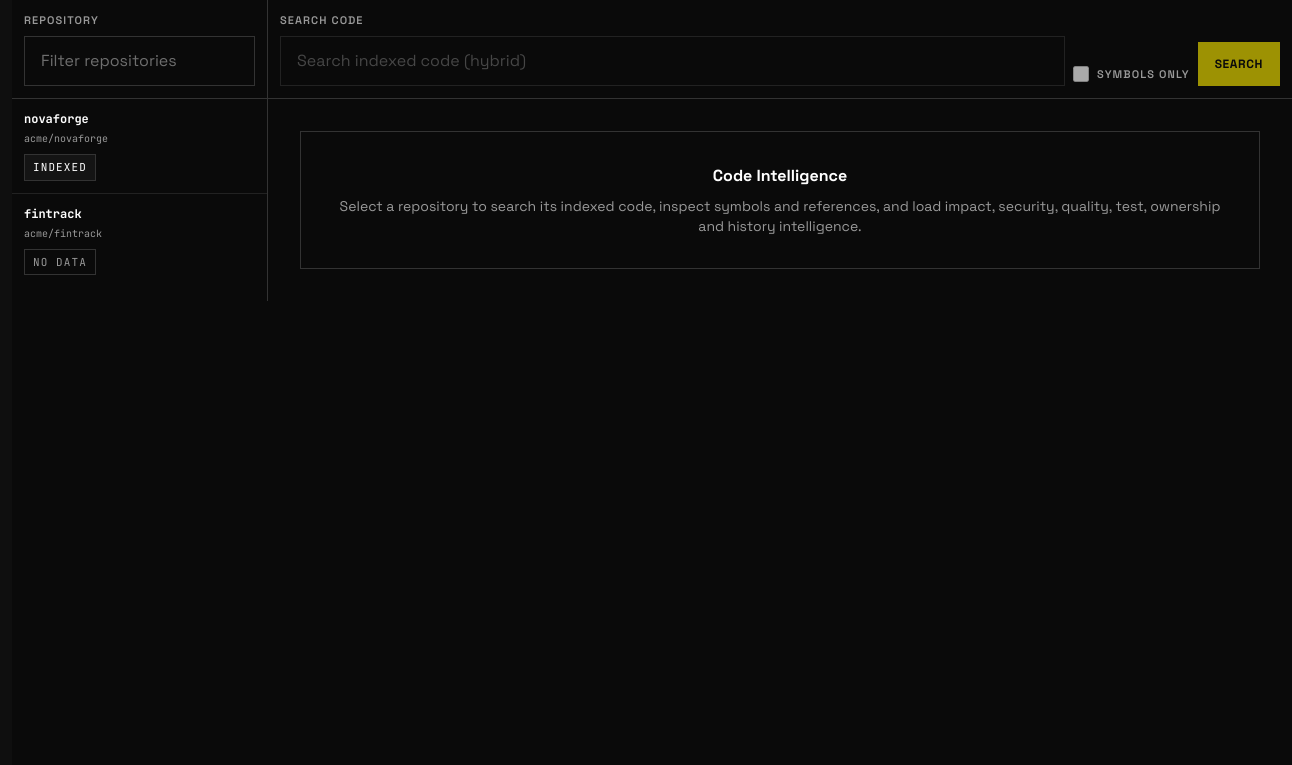
Code Workspace › performs symbol-only search and loads symbol detail on selection
Expected: the text "novaforge" is shown, [24,111,89,127]
Click the button "novaforge acme/novaforge Indexed".
click(140, 146)  # box [12,99,267,192]
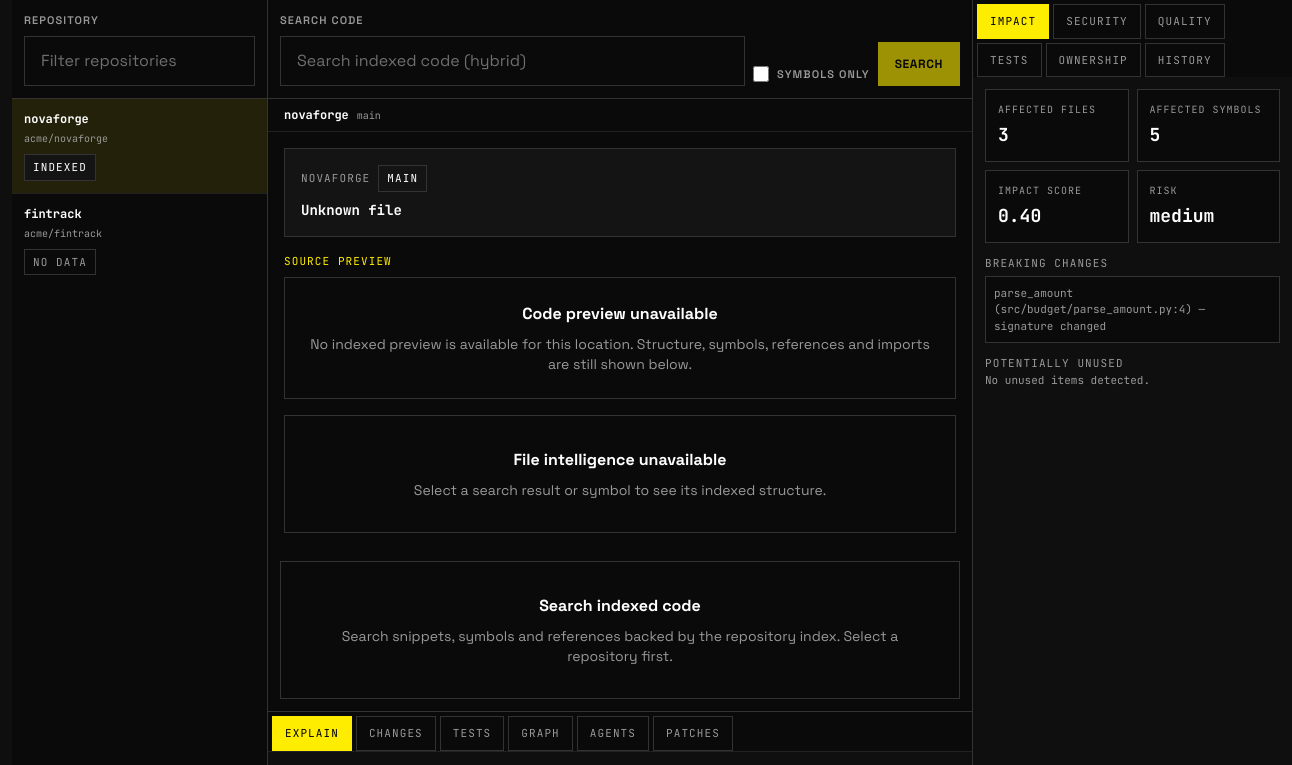
Now the field labelled "Code search" is enabled, box [280,36,745,86]
Click the checkbox labelled "Symbols only".
click(761, 74)  # box [753,66,769,82]
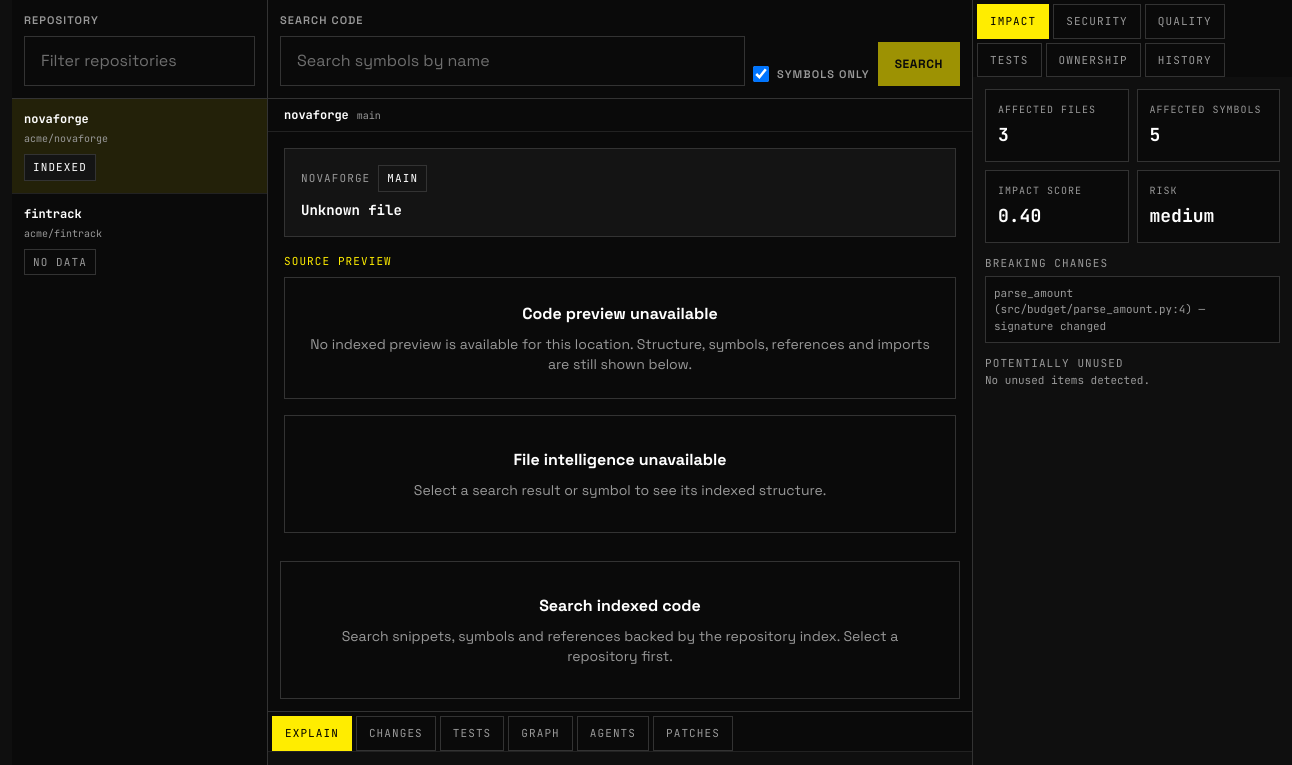
Type "parse" into the field labelled "Code search".
click(513, 61); type("parse")  # box [280,36,745,86]
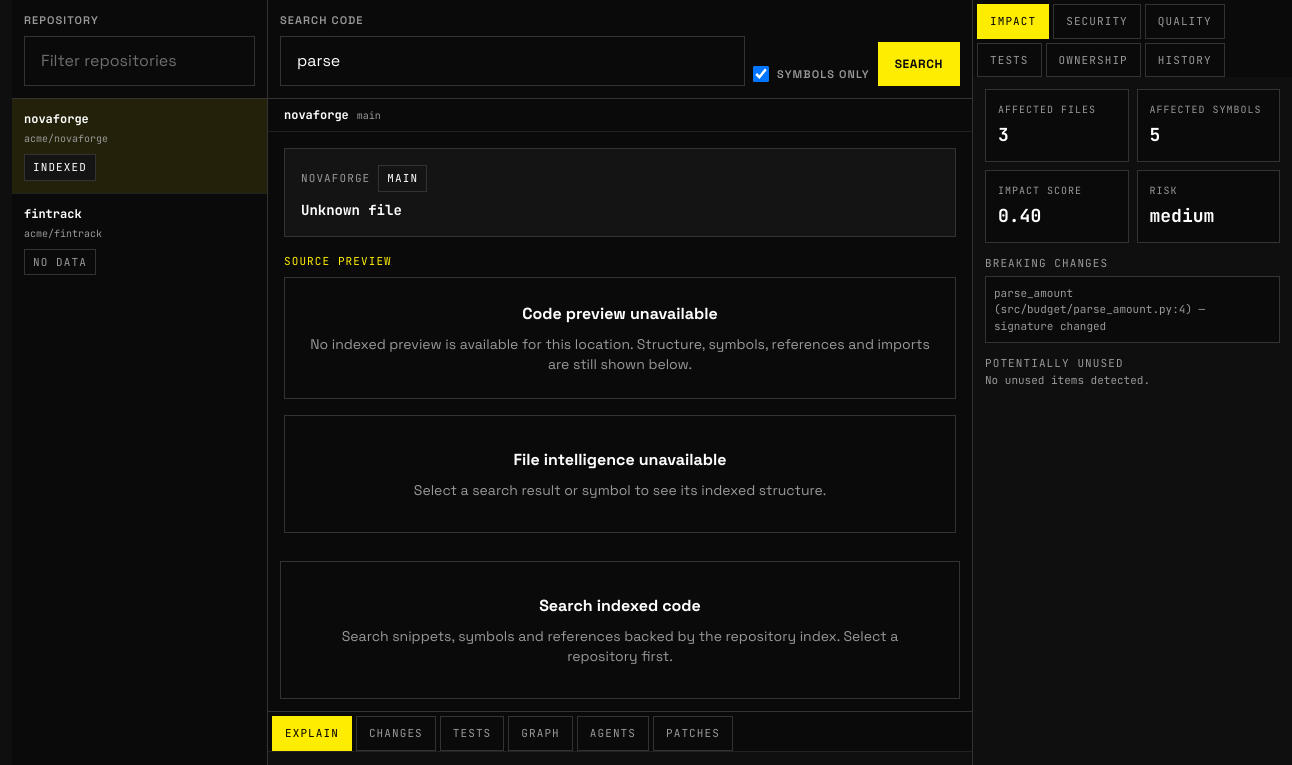
Click the button "Search".
click(919, 64)  # box [878,42,960,86]
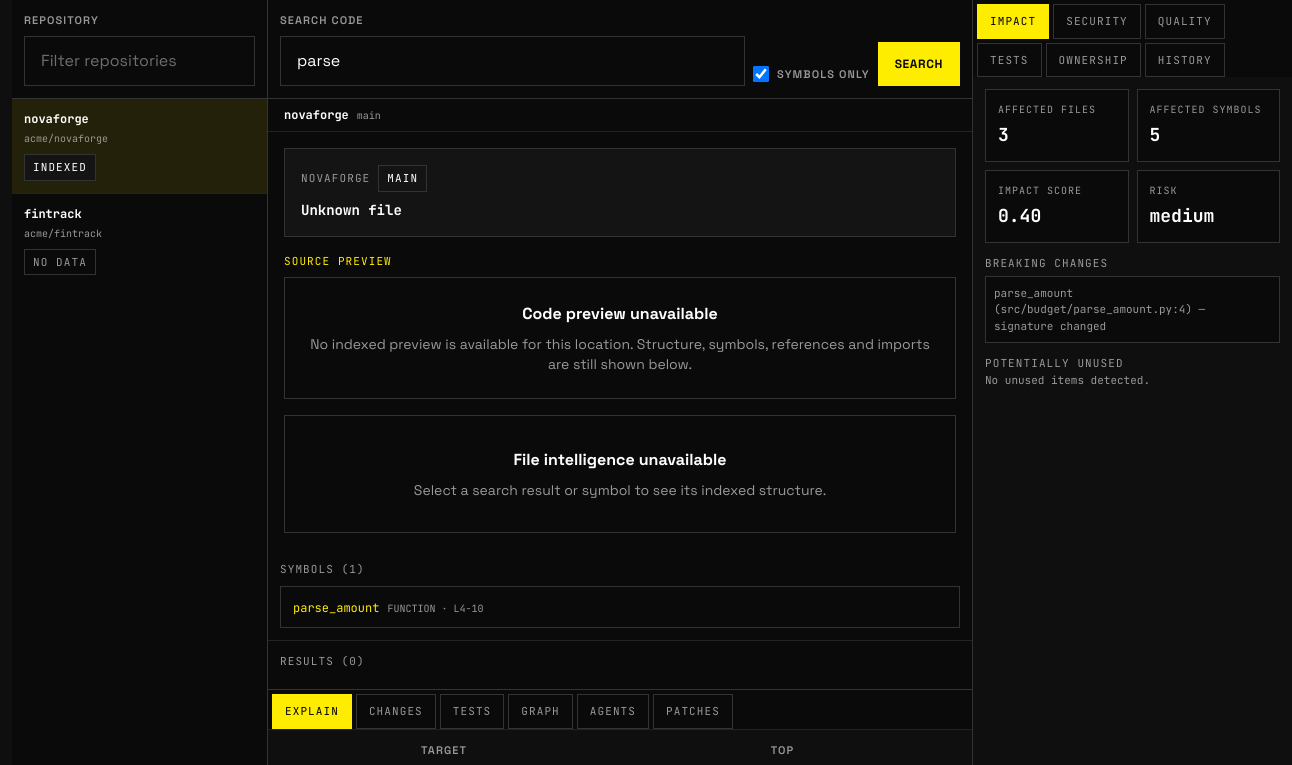
Click the button "parse_amount".
click(336, 608)  # box [280,586,960,628]
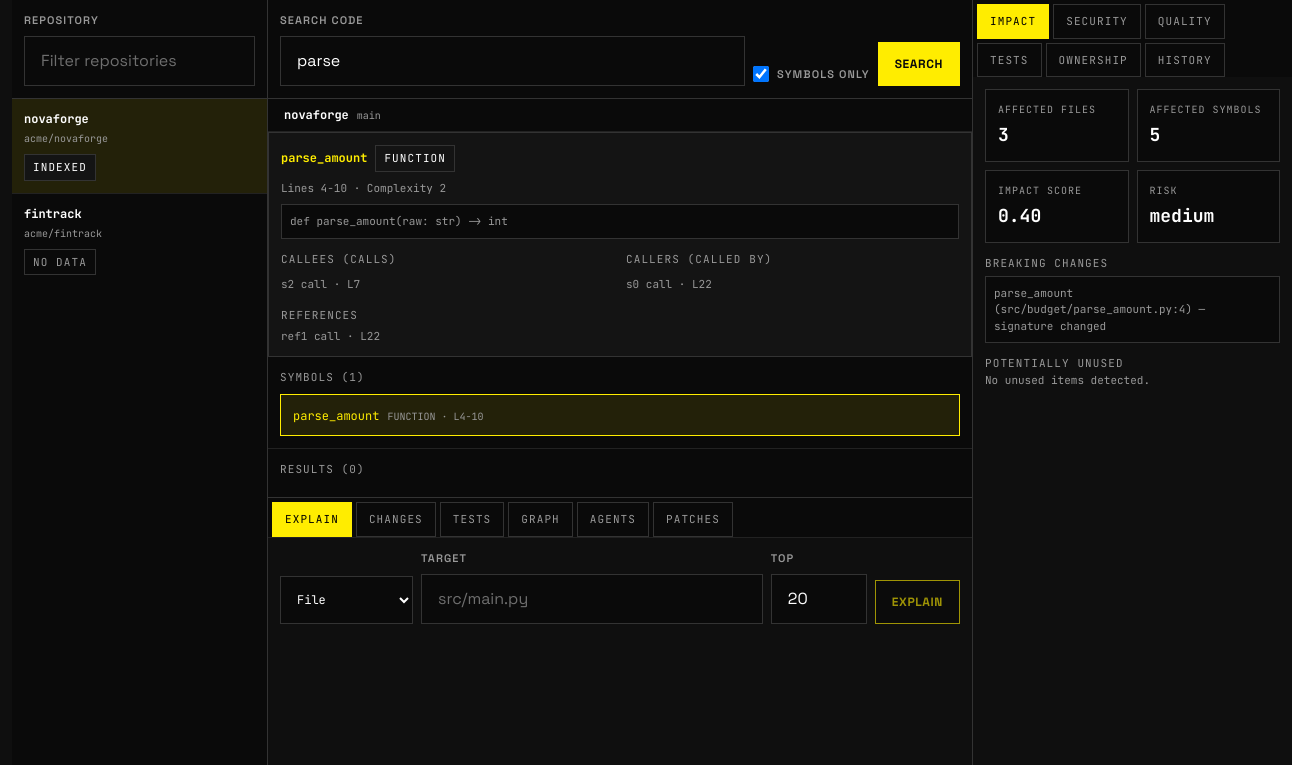
Now the element named "symbol detail" is shown, box [268,132,972,357]
Now the heading "Callees (calls)" is shown, box [281,252,396,266]
Now the heading "Callers (called by)" is shown, box [626,252,772,266]
